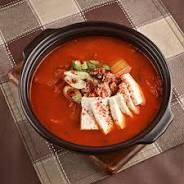kimchisup: (18, 21, 175, 154)
